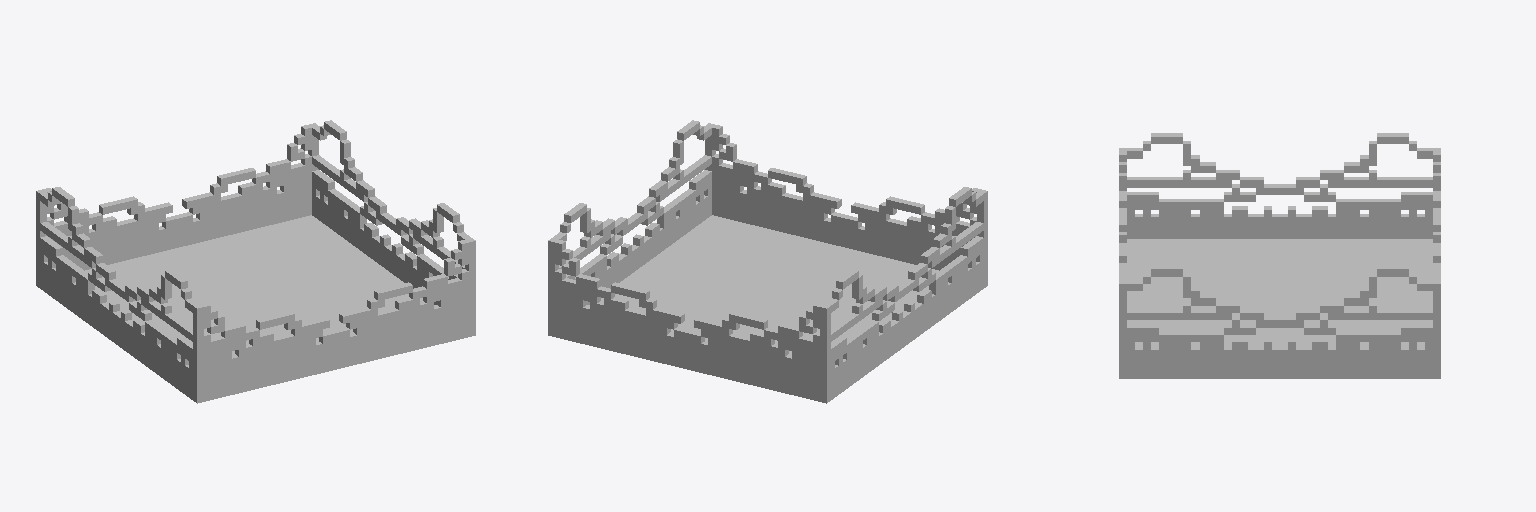
File: level1.obj
3 views of the same model, side by side, from view 1: azimuth 30°, elevation 25°; view 2: azimuth 150°, elevation 25°; view 3: azimuth 270°, elevation 25° (orthographic).
Size of the model in its own units: 40 by 15 by 40.